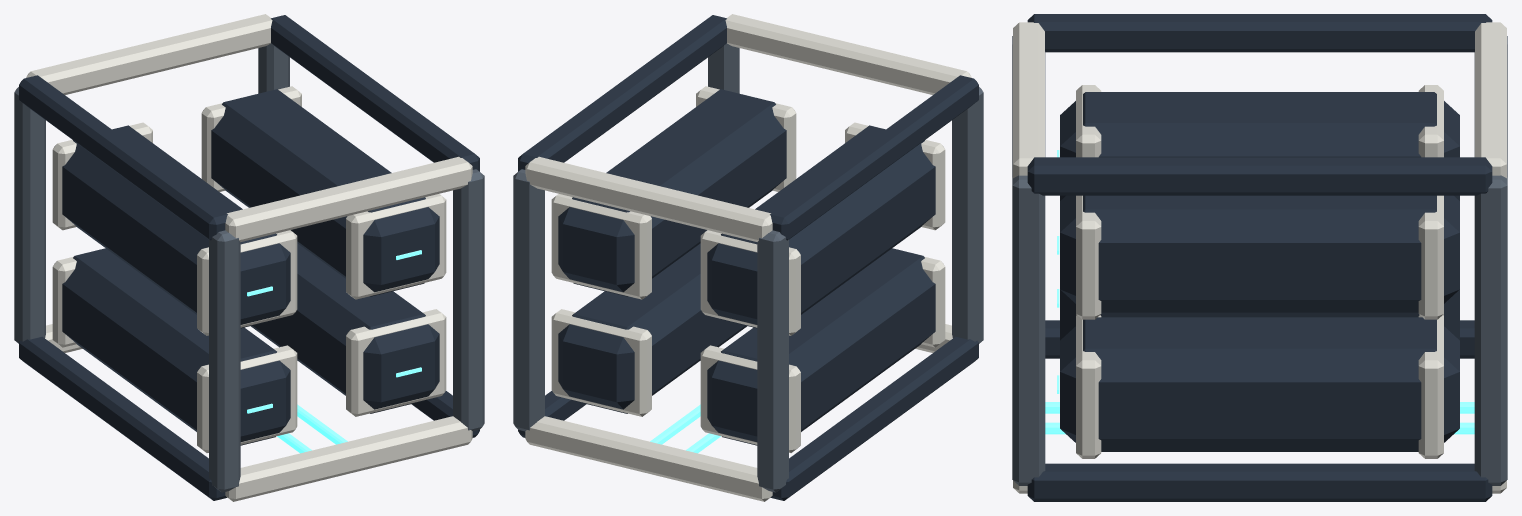
The model's file is context_storage.glb.
3 renders of one model, left to right at view 1: azimuth 30°, elevation 25°; view 2: azimuth 150°, elevation 25°; view 3: azimuth 270°, elevation 25°, orthographic. The views are drawn at different scales.
Parts seen in each view (by area): view 1: context_storage__cargo_cell__04, context_storage__cargo_cell, context_storage__cargo_cell__03, context_storage__cargo_cell__02, context_storage__column__03, context_storage__end_rail__04, context_storage__column__04, context_storage__frame__02, context_storage__end_rail__03, context_storage__frame, context_storage__column, context_storage__frame__04 (+11 smaller); view 2: context_storage__cargo_cell__04, context_storage__cargo_cell, context_storage__cargo_cell__03, context_storage__cargo_cell__02, context_storage__column, context_storage__end_rail__02, context_storage__column__02, context_storage__frame__02, context_storage__end_rail, context_storage__frame, context_storage__column__03, context_storage__frame__04 (+11 smaller); view 3: context_storage__cargo_cell__02, context_storage__cargo_cell__04, context_storage__cargo_cell__03, context_storage__frame__04, context_storage__frame__03, context_storage__frame__02, context_storage__column__02, context_storage__column__04, context_storage__end_rail__02, context_storage__end_rail__04, context_storage__cargo_cell, context_storage__cargo_band__03 (+6 smaller).
Part boxes in pixels (x1,y1,x2,y2): context_storage__cargo_cell__04: (211,89,439,296); context_storage__cargo_cell: (62,248,290,445); context_storage__cargo_cell__03: (62,125,290,328); context_storage__cargo_cell__02: (250,243,439,413); context_storage__column__03: (209,230,240,492); context_storage__end_rail__04: (225,156,472,241); context_storage__column__04: (453,169,484,431); context_storage__frame__02: (19,75,227,240); context_storage__end_rail__03: (225,416,472,501); context_storage__frame: (19,336,227,500); context_storage__column: (14,87,45,343); context_storage__frame__04: (271,15,479,171); context_storage__cargo_cell__04: (558,89,786,296); context_storage__cargo_cell: (707,248,935,445); context_storage__cargo_cell__03: (707,125,935,328); context_storage__cargo_cell__02: (558,243,747,413); context_storage__column: (757,230,788,492); context_storage__end_rail__02: (525,156,772,241); context_storage__column__02: (513,169,544,431); context_storage__frame__02: (770,75,978,240); context_storage__end_rail: (525,416,772,501); context_storage__frame: (770,336,978,500); context_storage__column__03: (952,87,983,343); context_storage__frame__04: (518,15,726,171); context_storage__cargo_cell__02: (1060,317,1459,451); context_storage__cargo_cell__04: (1060,195,1459,312); context_storage__cargo_cell__03: (1060,92,1459,200); context_storage__frame__04: (1027,157,1492,195); context_storage__frame__03: (1027,463,1492,501); context_storage__frame__02: (1027,14,1492,52); context_storage__column__02: (1474,175,1507,485); context_storage__column__04: (1012,175,1045,485); context_storage__end_rail__02: (1475,22,1506,178); context_storage__end_rail__04: (1013,22,1044,178); context_storage__cargo_cell: (1060,289,1459,340); context_storage__cargo_band__03: (1418,315,1443,458).
Size of the model in its own units: 3 by 3 by 4.
